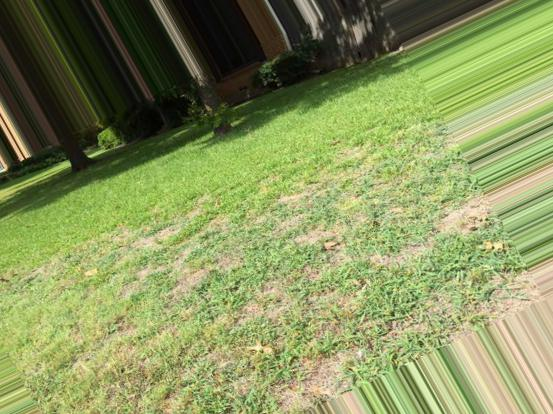patch: (215, 200, 478, 312), (350, 162, 444, 218), (300, 340, 348, 387)
